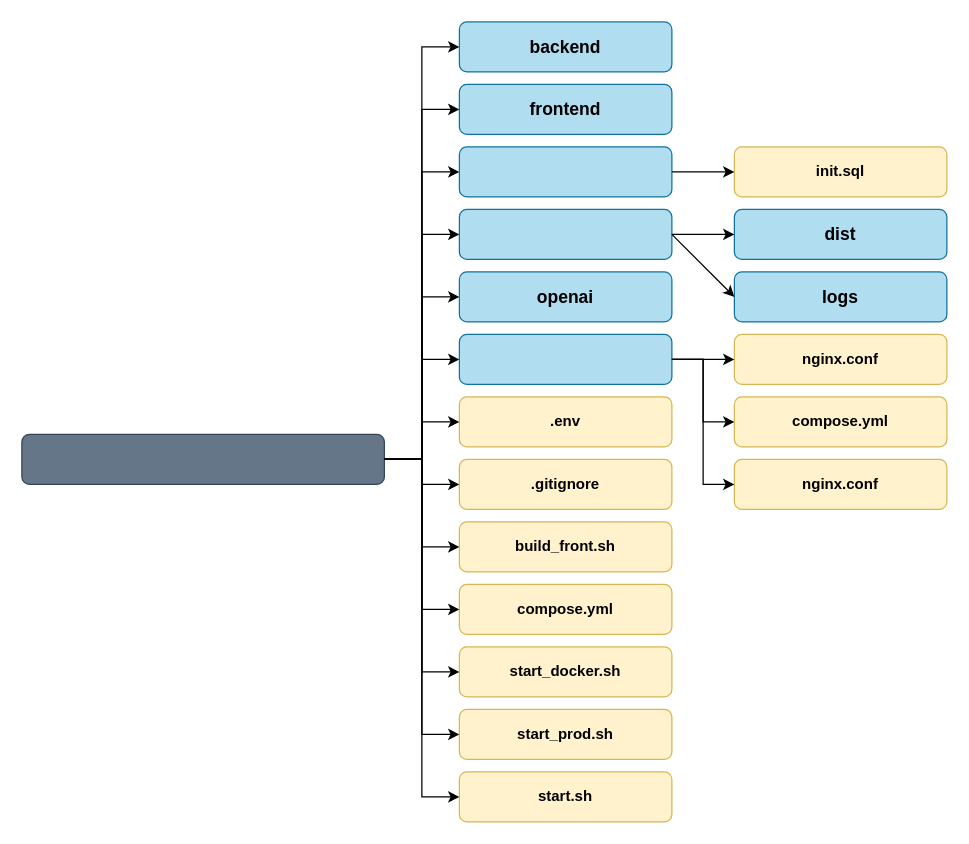
Image size: 969x844. Some labels were removed from this diagram. Each missing label, with the box of its shape:
CENTURION-INTERNAL-SYSTEM: (21, 433, 384, 484)
mysql: (458, 146, 672, 197)
nginx: (458, 208, 672, 259)
server_deprecated: (458, 333, 672, 384)
